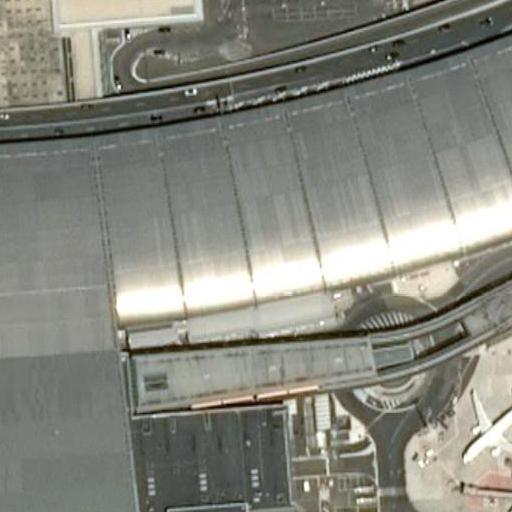Aircraft: (454, 378, 512, 470)
